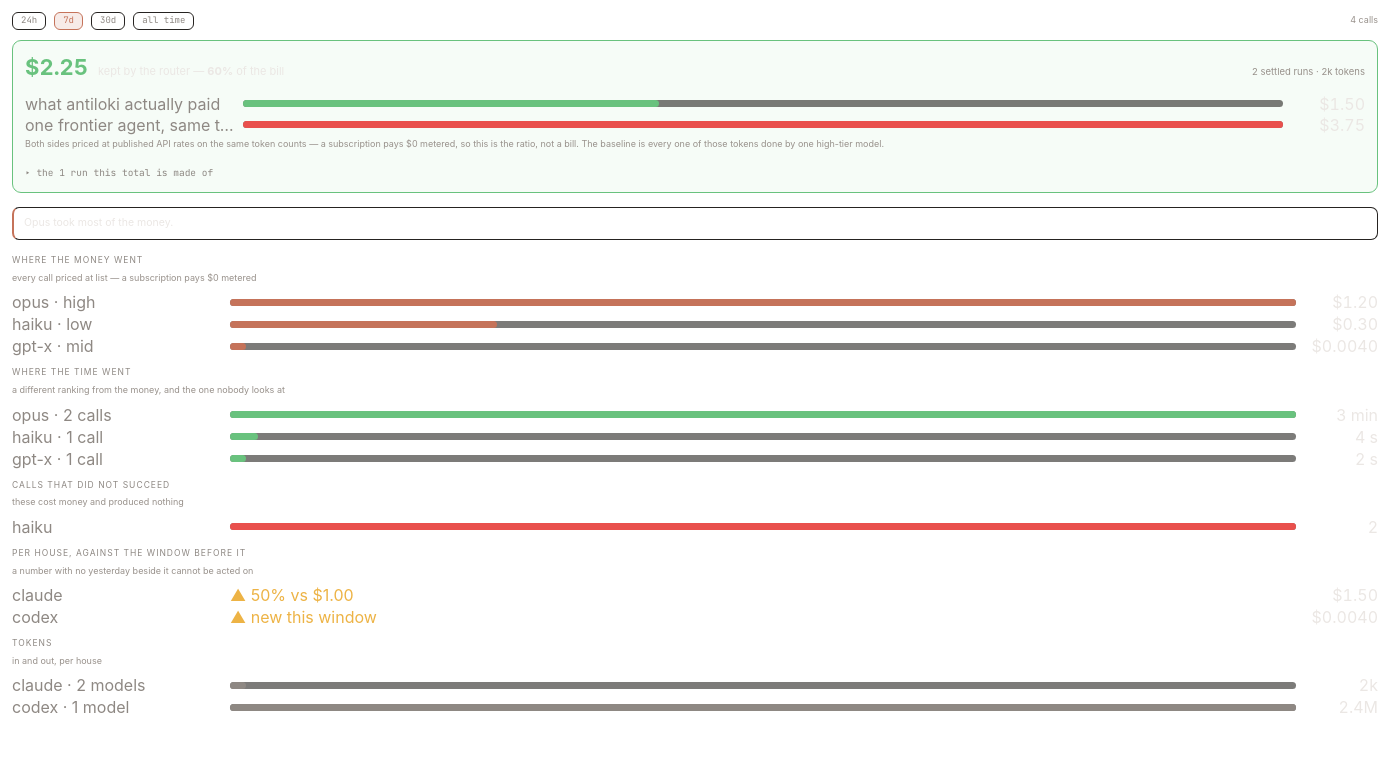
Scenario: FuelStats › leads with what the router kept, proves it from the runs, and ranks where the money, the time and the failures went
Expected: the element with test id "fuel-saved" shows "$2.25", [25,54,88,80]
Expected: the element with test id "fuel-saved" shows "kept by the router — 60% of the bill", [12,40,1378,193]
Click the button with test id "fuel-proof" at (119, 174), box [25,166,213,181]
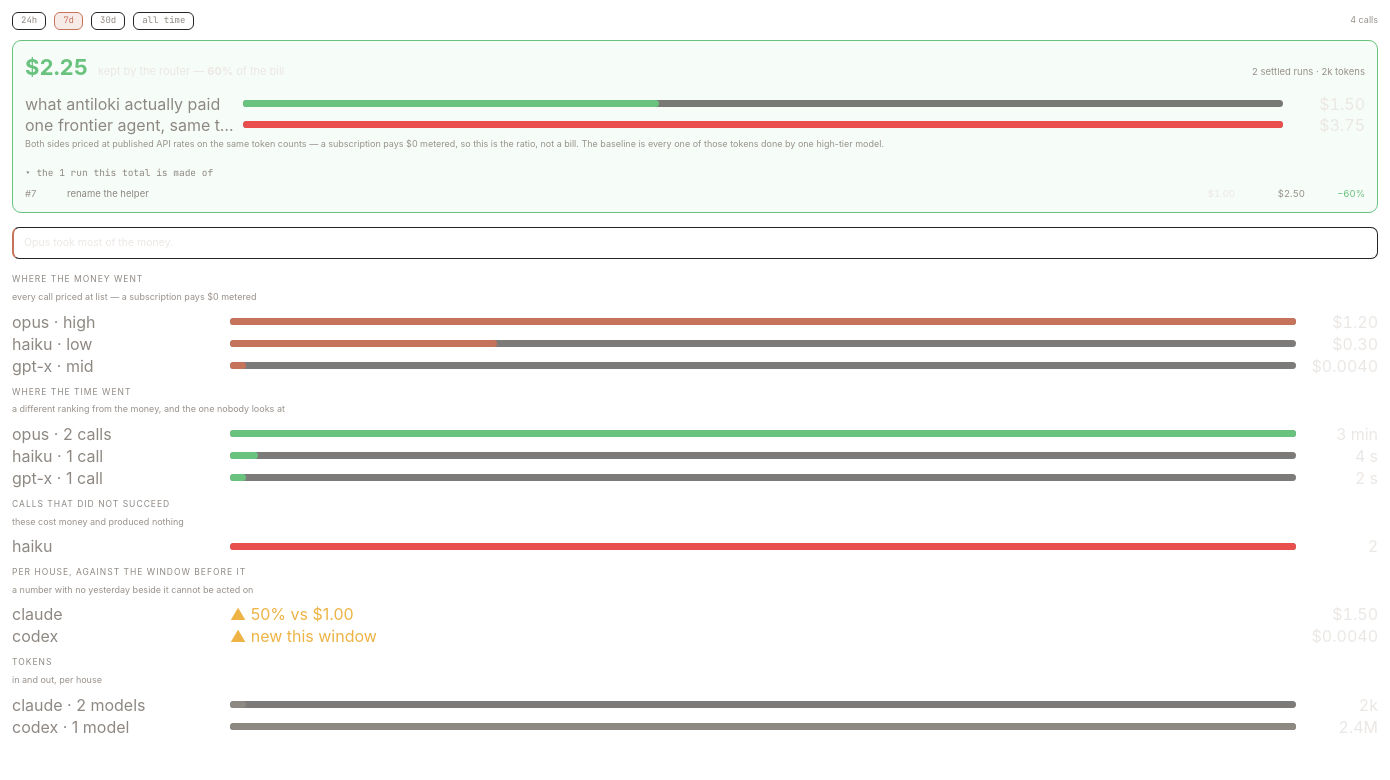
Now the element with test id "fuel-proof-7" shows "rename the helper", box [67,188,149,199]
Now the element with test id "fuel-proof-7" shows "−60%", box [25,187,1365,202]
Click the button with test id "fuel-proof" at (119, 174), box [25,166,213,181]
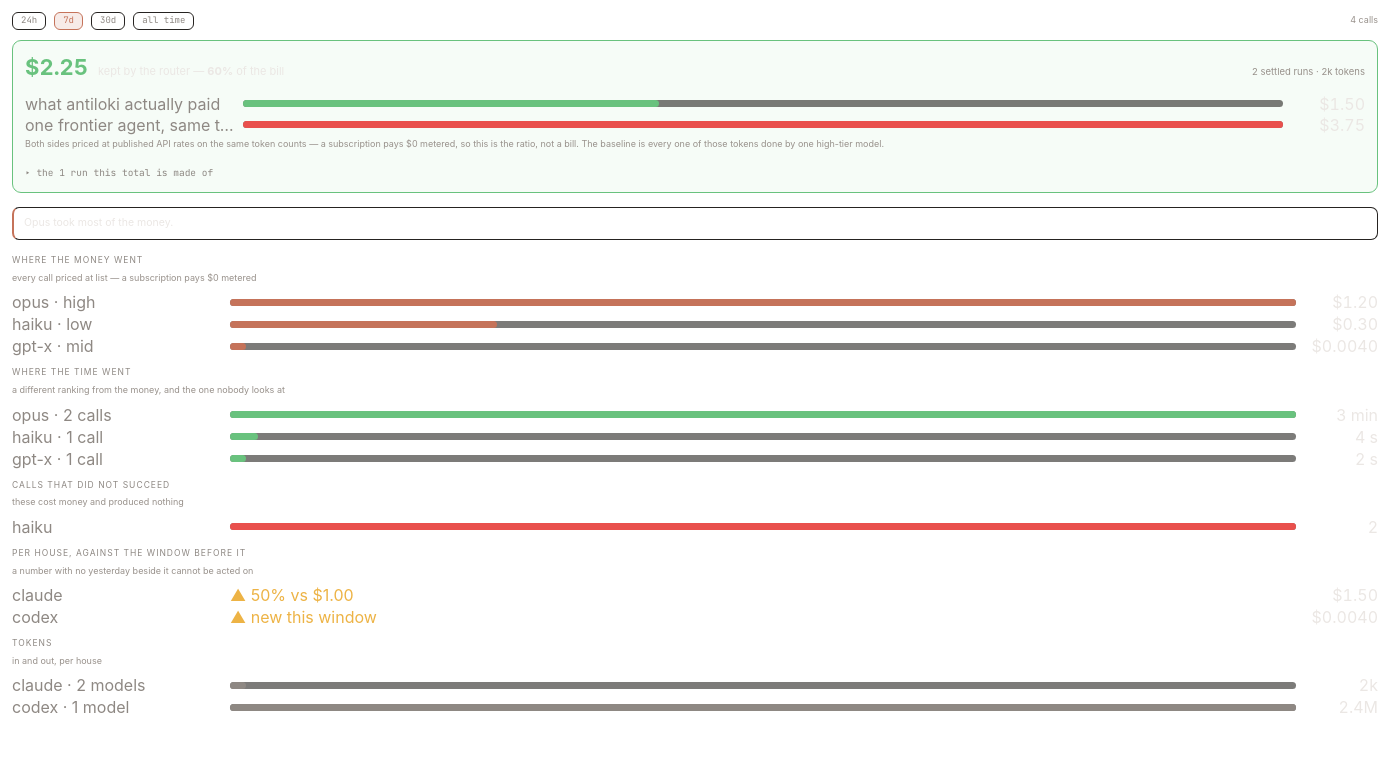
Expected: the text with test id "stats-analysis" reads "Opus took most of the money.", [24,216,173,229]
Now the element with test id "fuel-proof-7" is gone
